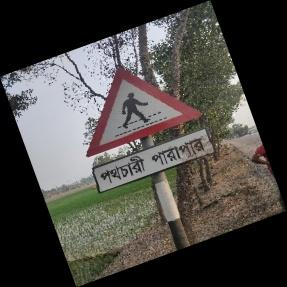Pedestrian-crossing: (84, 68, 211, 192)
